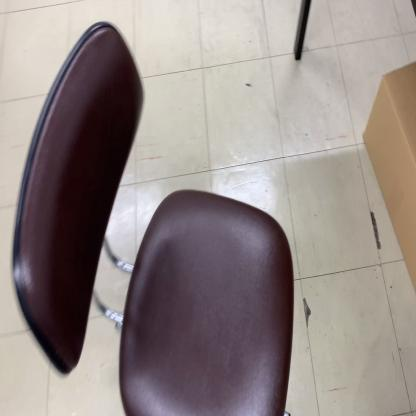chair: (10, 15, 296, 416)
